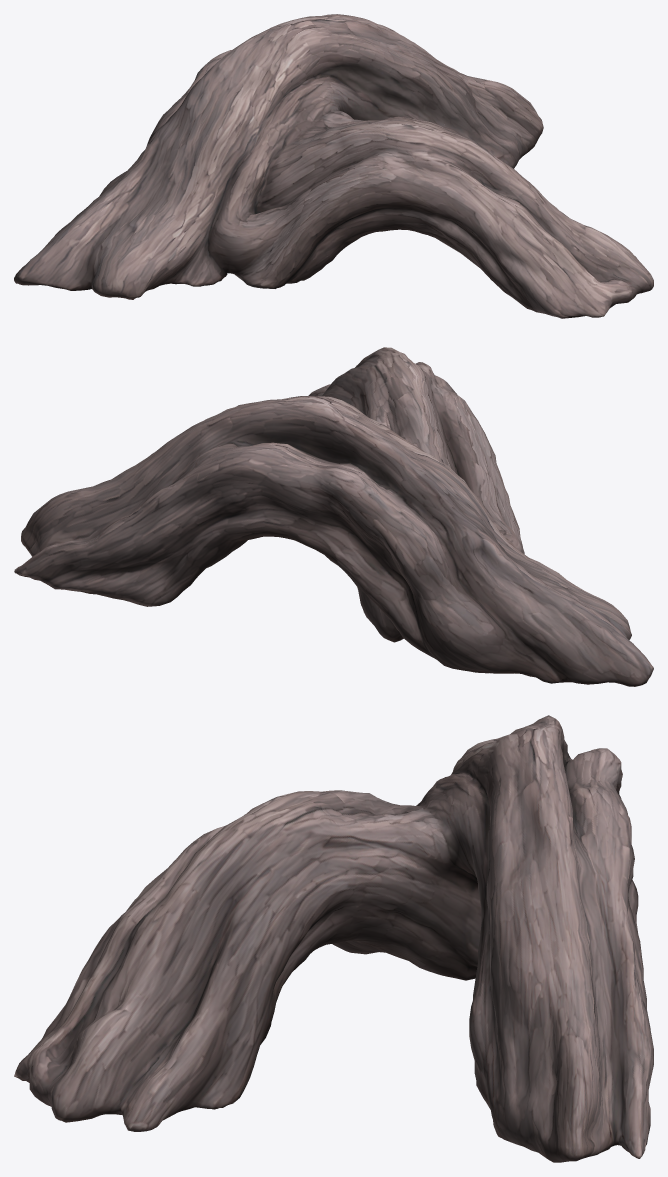
Rendered from Seonang_Tree_Root2.fbx.
The picture shows the model from 3 angles, top to bottom: view 1: azimuth 30°, elevation 25°; view 2: azimuth 150°, elevation 25°; view 3: azimuth 270°, elevation 25°; orthographic projection. The views are drawn at different scales.
Parts seen in each view (by area): view 1: tripo_node_343c3191; view 2: tripo_node_343c3191; view 3: tripo_node_343c3191.
Part boxes in pixels (<box>): tripo_node_343c3191: <box>14,14,653,318</box>; tripo_node_343c3191: <box>14,347,653,686</box>; tripo_node_343c3191: <box>14,715,653,1162</box>.
Bounding box in the file's own units: 99.8 × 72.46 × 34.18.
